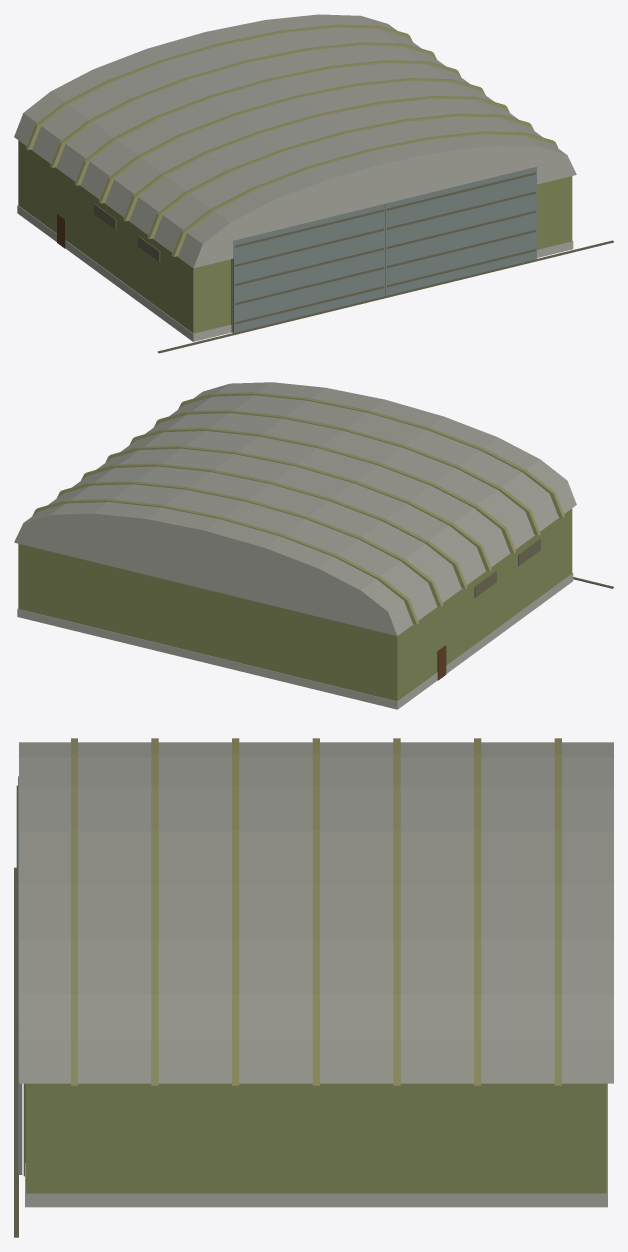
Rendered from SM_Hangar_v0_LOD0.fbx.
3 renders of one model, top to bottom at view 1: azimuth 30°, elevation 25°; view 2: azimuth 150°, elevation 25°; view 3: azimuth 270°, elevation 25°, orthographic. The views are drawn at different scales.
Parts seen in each view (by area): view 1: SM_hangar_v0_LOD0, Porton_O, Porton_E; view 2: SM_hangar_v0_LOD0; view 3: SM_hangar_v0_LOD0, Porton_E.
Part boxes in pixels (x1,y1,x2,y2): SM_hangar_v0_LOD0: (14,14,613,353); Porton_O: (232,204,385,332); Porton_E: (385,167,536,295); SM_hangar_v0_LOD0: (14,382,613,709); SM_hangar_v0_LOD0: (14,738,613,1237); Porton_E: (16,899,22,1174).
Size of the model in its own units: 36 by 10.18 by 24.8.
